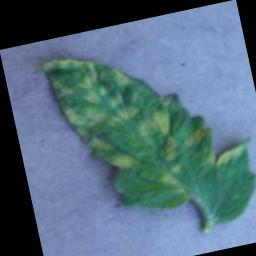Leaf_Mold: (42, 43, 150, 161), (130, 94, 184, 165), (204, 140, 249, 172), (179, 124, 214, 151), (108, 147, 137, 172)
